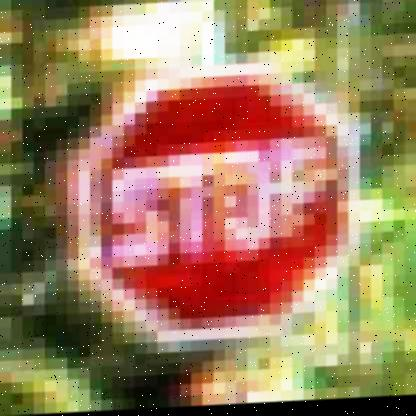Stop Sign: (79, 59, 358, 346)
